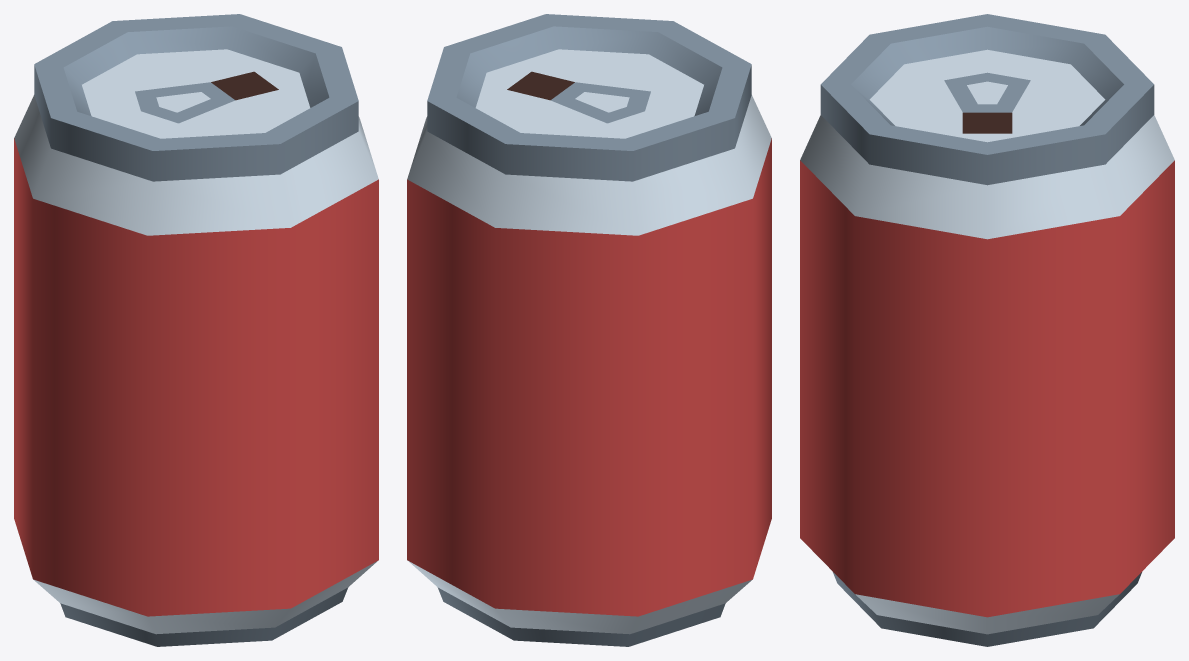
The model's file is sodaCan.dae.
3 renders of one model, left to right at view 1: azimuth 30°, elevation 25°; view 2: azimuth 150°, elevation 25°; view 3: azimuth 270°, elevation 25°, orthographic.
Visible parts, largest first — view 1: sodaCan; view 2: sodaCan; view 3: sodaCan.
Part boxes in pixels (x1,y1,x2,y2): sodaCan: (14,14,378,646); sodaCan: (407,14,771,646); sodaCan: (800,14,1174,646).
Size of the model in its own units: 0.2246 by 0.33 by 0.2246.
